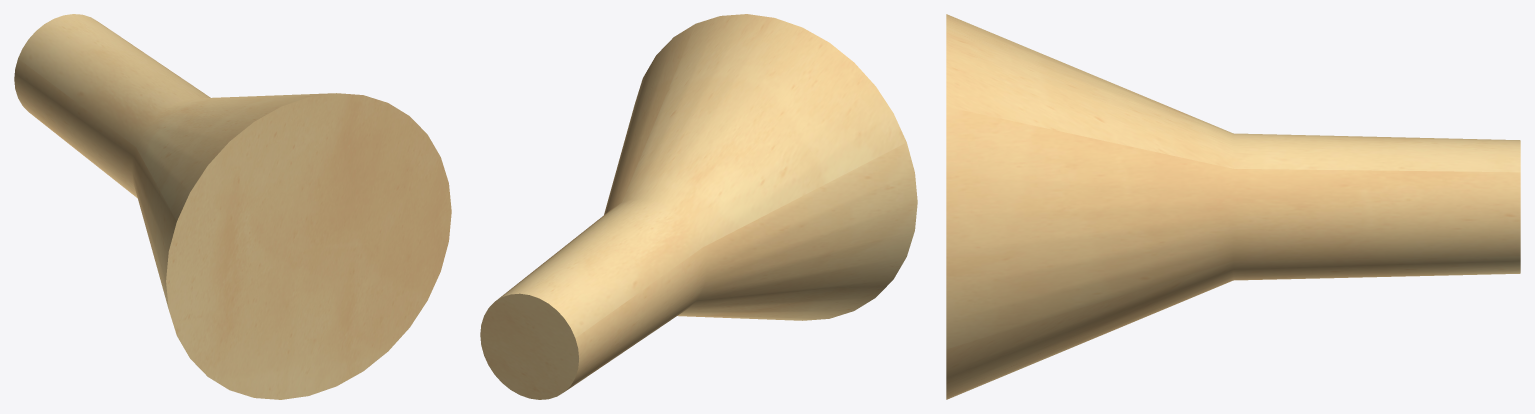
Rendered from funnel pivot.fbx.
3 views of the same model, side by side, from view 1: azimuth 30°, elevation 25°; view 2: azimuth 150°, elevation 25°; view 3: azimuth 270°, elevation 25° (orthographic). The views are drawn at different scales.
Visible parts, largest first — view 1: funnel; view 2: funnel; view 3: funnel.
Part boxes in pixels (left/top/right/bottom): funnel: left=14, top=14, right=451, bottom=399; funnel: left=480, top=14, right=917, bottom=399; funnel: left=946, top=14, right=1520, bottom=399.
Size of the model in its own units: 1112 by 1112 by 1653.
